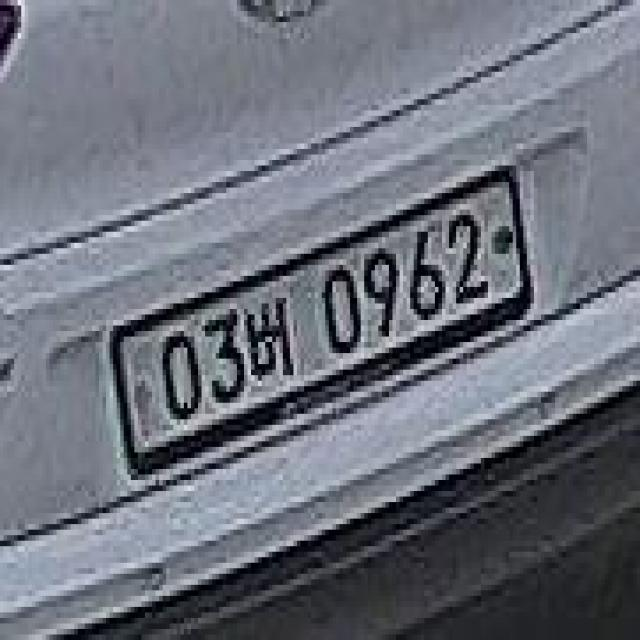illegal_plate: (109, 164, 536, 490)
